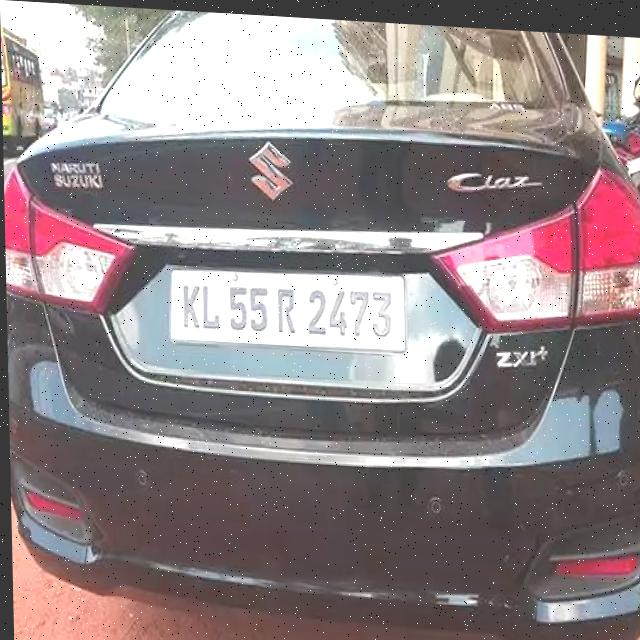plate: (170, 265, 404, 352)
